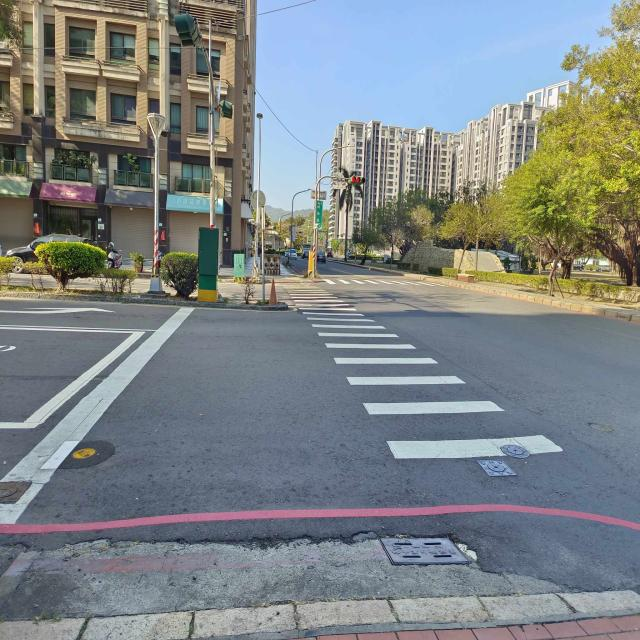zebra_crossing: (82, 53, 488, 521), (153, 133, 493, 419)
